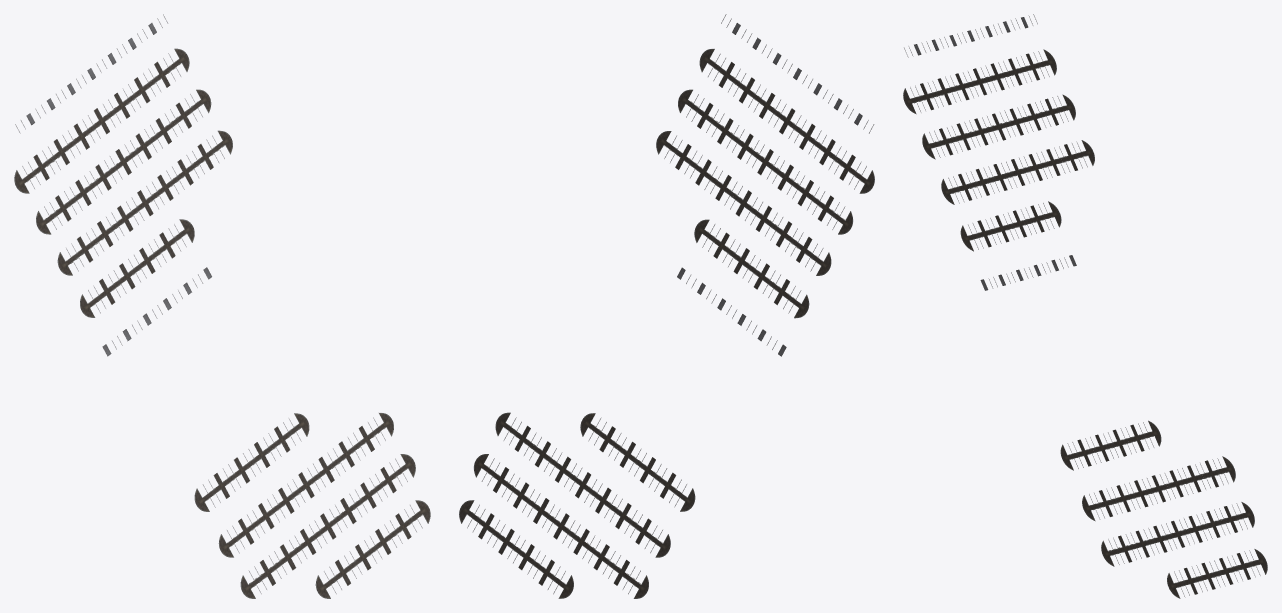
Rendered from baylands_parking.glb.
3 views of the same model, side by side, from view 1: azimuth 30°, elevation 25°; view 2: azimuth 150°, elevation 25°; view 3: azimuth 330°, elevation 25° (orthographic). The views are drawn at different scales.
Parts seen in each view (by area): view 1: Parking.015, Parking.014, Parking.016, Parking.017, Parking.013, Parking.019, Parking.018, Parking.025, Parking.023, Parking.024, Parking.021, Parking.022 (+1 smaller); view 2: Parking.013, Parking.017, Parking.015, Parking.016, Parking.014, Parking.018, Parking.019, Parking.025; view 3: Parking.013, Parking.015, Parking.014, Parking.017, Parking.016, Parking.018, Parking.025, Parking.019, Parking.021, Parking.023, Parking.020, Parking.024 (+1 smaller).
Boxes of the visible parts, <box> form: Parking.015: <box>36,89,211,234</box>; Parking.014: <box>240,454,415,598</box>; Parking.016: <box>57,130,232,275</box>; Parking.017: <box>14,48,189,193</box>; Parking.013: <box>218,412,393,557</box>; Parking.019: <box>80,219,194,317</box>; Parking.018: <box>194,413,309,511</box>; Parking.025: <box>315,500,430,598</box>; Parking.023: <box>248,458,407,594</box>; Parking.024: <box>227,417,385,553</box>; Parking.021: <box>44,94,202,229</box>; Parking.022: <box>22,53,181,188</box>; Parking.013: <box>495,412,670,557</box>; Parking.017: <box>699,48,874,193</box>; Parking.015: <box>678,89,853,234</box>; Parking.016: <box>656,131,831,275</box>; Parking.014: <box>473,454,648,598</box>; Parking.018: <box>580,413,695,511</box>; Parking.019: <box>694,219,809,318</box>; Parking.025: <box>459,500,573,598</box>; Parking.013: <box>1082,456,1235,521</box>; Parking.015: <box>922,94,1075,159</box>; Parking.014: <box>1101,501,1254,566</box>; Parking.017: <box>903,49,1056,114</box>; Parking.016: <box>941,140,1094,204</box>; Parking.018: <box>1060,420,1161,470</box>; Parking.025: <box>1167,548,1267,598</box>; Parking.019: <box>960,201,1061,251</box>; Parking.021: <box>929,96,1068,157</box>; Parking.023: <box>1108,503,1247,564</box>; Parking.020: <box>948,141,1087,203</box>; Parking.024: <box>1089,458,1228,519</box>.
Bounding box in the file's own units: 168 × 241 × 0.4902.
Materials: 1 (1 with a texture image).
